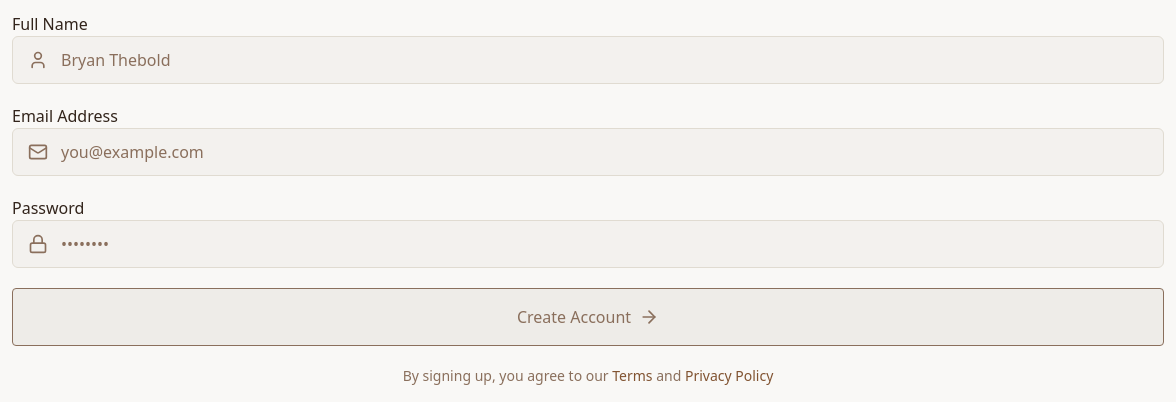
Test: SignUpForm › submit button becomes enabled when all fields filled
In the field labelled "Full Name": (588, 60) [12,36,1164,84], type "Daniel"
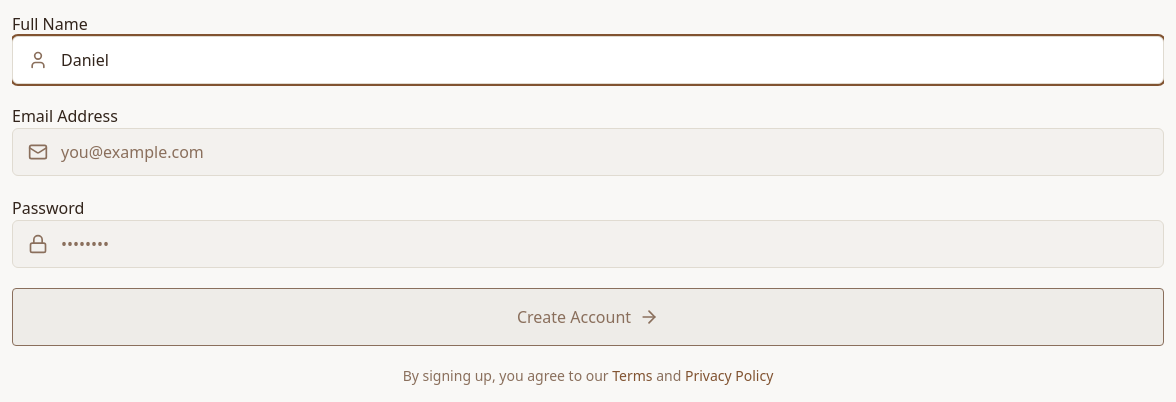
In the field labelled "Email Address": (588, 152) [12,128,1164,176], type "dan@test.com"
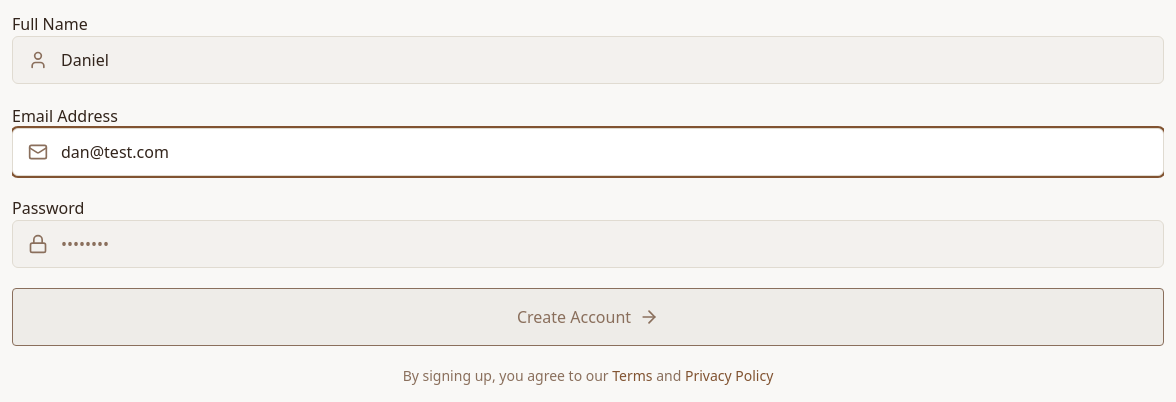
In the password field labelled "Password": (588, 244) [12,220,1164,268], type "Pass1234"
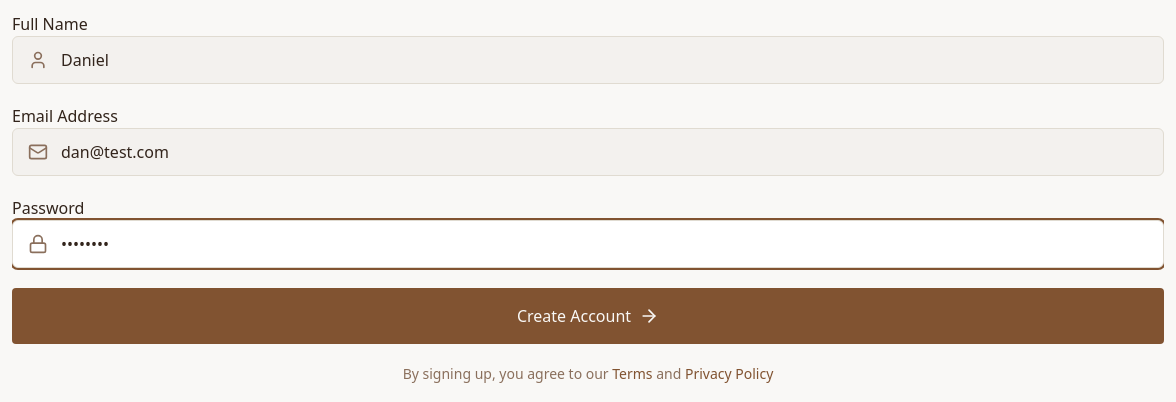
expect the button "Create Account" is enabled: met, box [12,288,1164,344]
